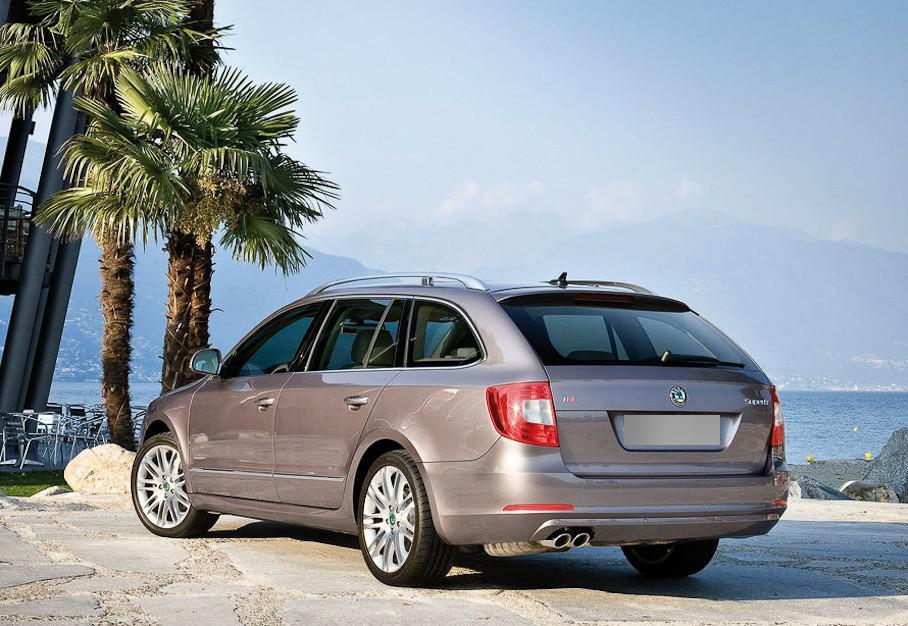Wagon: (132, 272, 788, 586)
